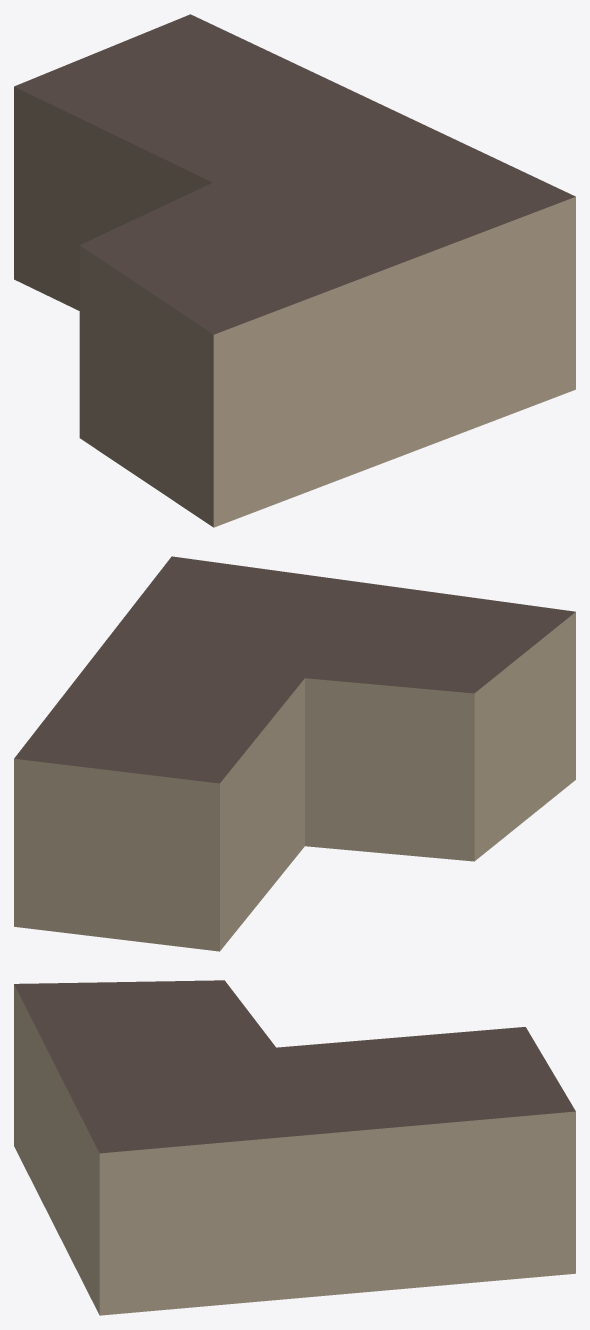
3 renders of one model, top to bottom at view 1: azimuth 30°, elevation 25°; view 2: azimuth 150°, elevation 25°; view 3: azimuth 270°, elevation 25°, orthographic. The views are drawn at different scales.
Visible parts, largest first — view 1: HP-w702173483; view 2: HP-w702173483; view 3: HP-w702173483.
Part boxes in pixels (<box>): HP-w702173483: <box>14,14,575,527</box>; HP-w702173483: <box>14,556,575,951</box>; HP-w702173483: <box>14,980,575,1315</box>.
Size of the model in its own units: 13.73 by 6 by 18.84.
